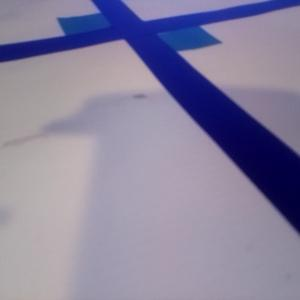bottom_right: (135, 21, 223, 51)
top_left: (56, 11, 133, 38)
